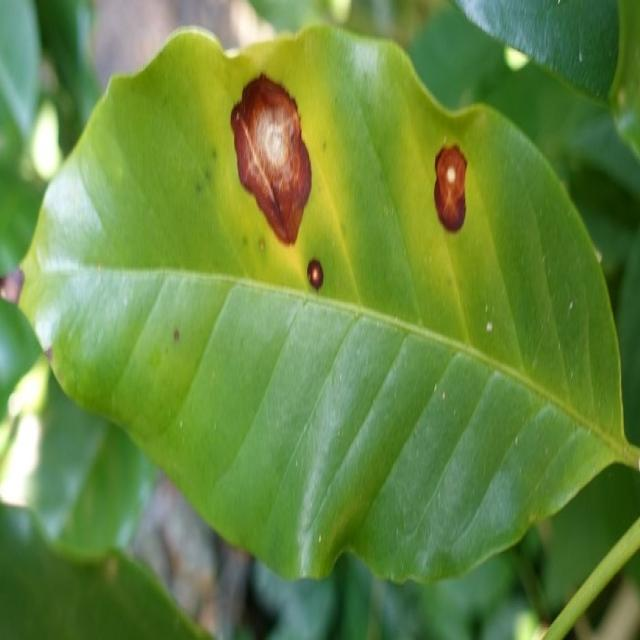Enfermedad-Mancha-de-hierro: (15, 25, 640, 588)
